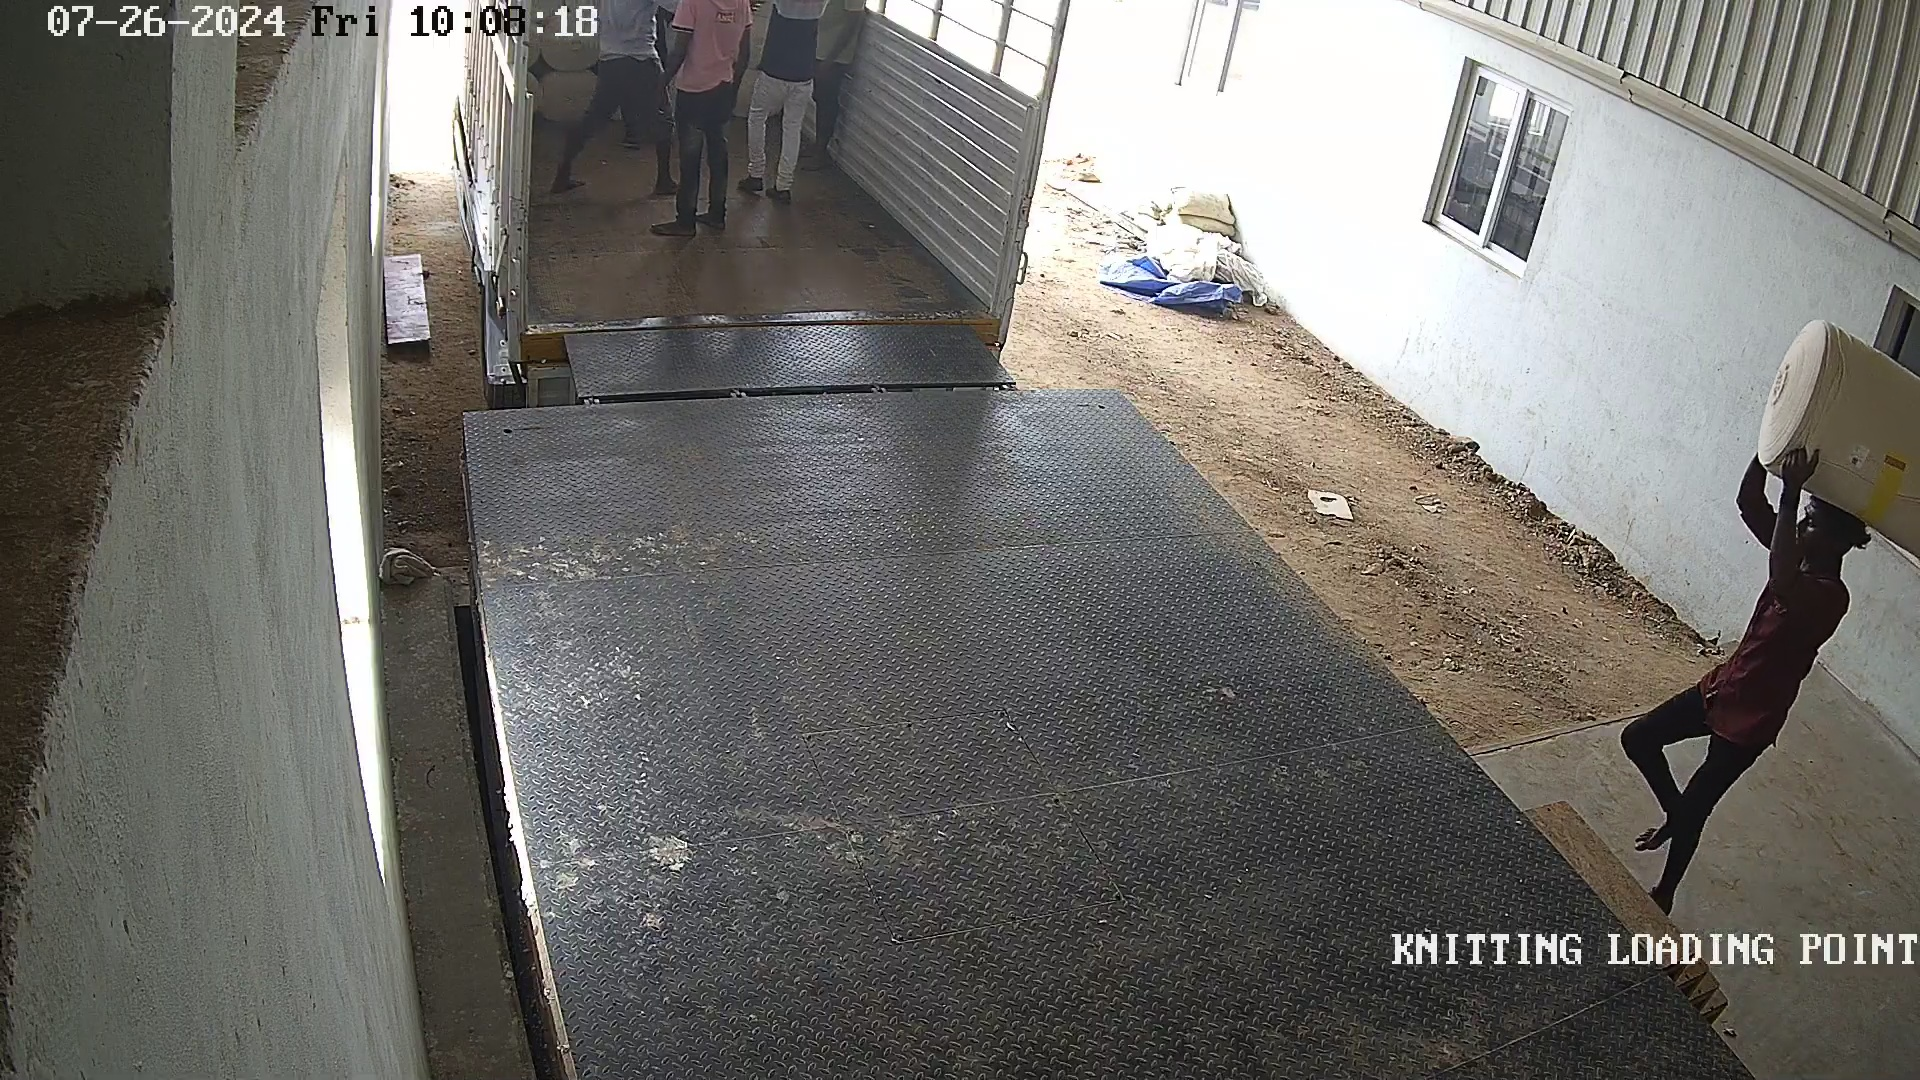bag: (1739, 301, 1920, 564)
